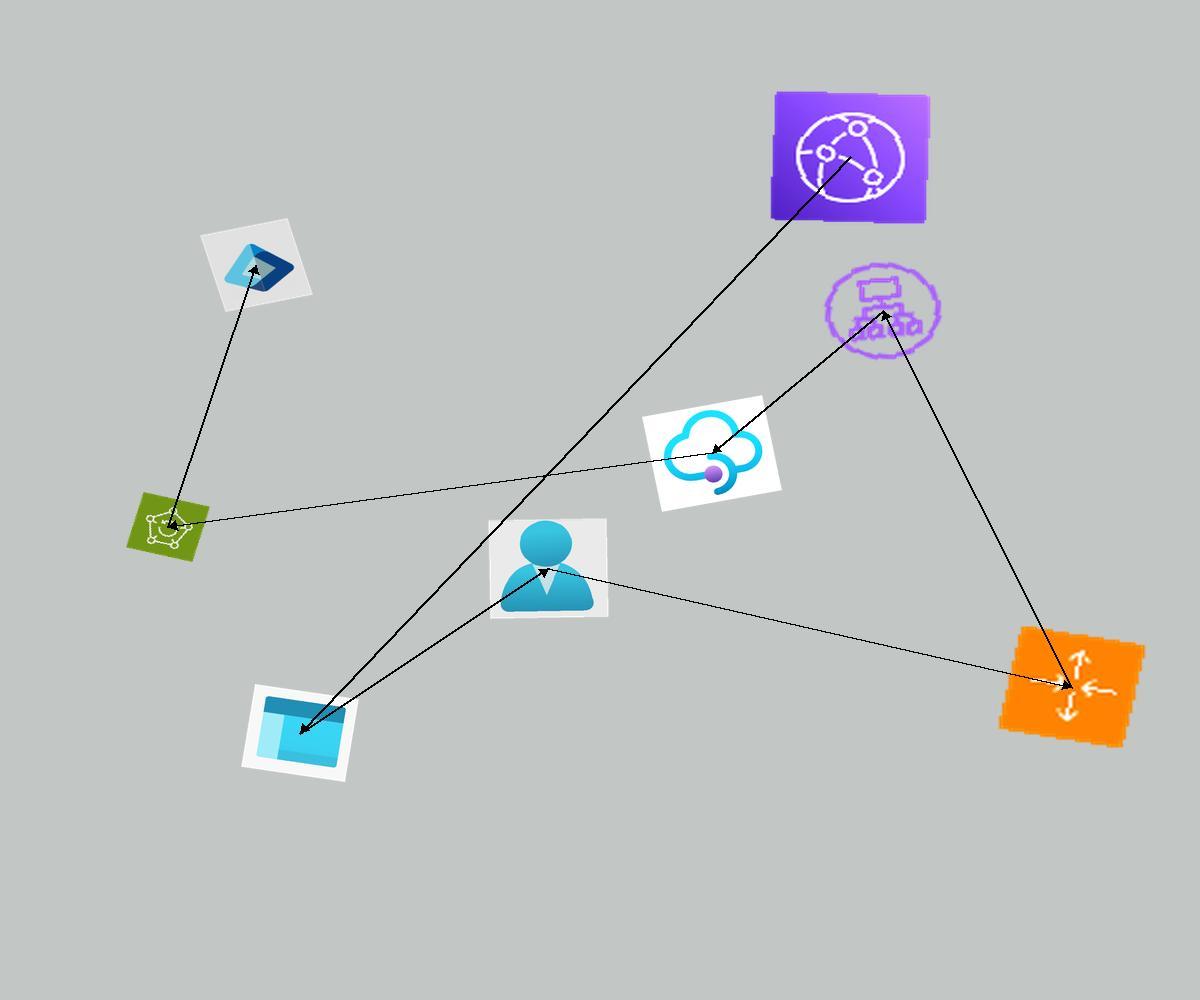AWS-Backup: (126, 492, 210, 562)
AWS-CloudFront: (769, 90, 932, 225)
AWS-Res_Elastic-Load-Balancing_Application-Load-Balancer: (812, 252, 954, 370)
AWS-Scaling-group: (996, 624, 1148, 750)
Azure_api_gateway: (642, 395, 782, 512)
Azure_management-portal: (241, 684, 359, 782)
Azure_microsoft_entra: (200, 218, 313, 312)
Azure_users: (488, 518, 609, 619)
